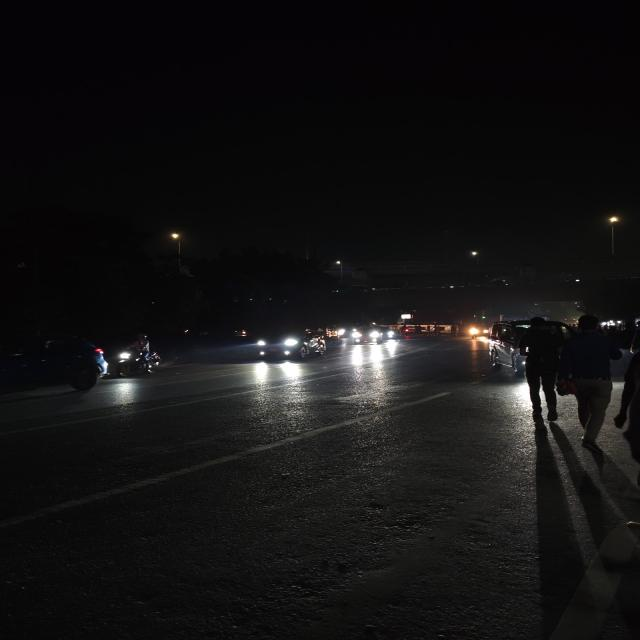car: (0, 335, 110, 402), (484, 316, 538, 382), (250, 329, 331, 365), (351, 324, 386, 346)
motorcycle: (113, 332, 167, 380), (402, 324, 414, 338)
pedestrian: (555, 314, 627, 446)
